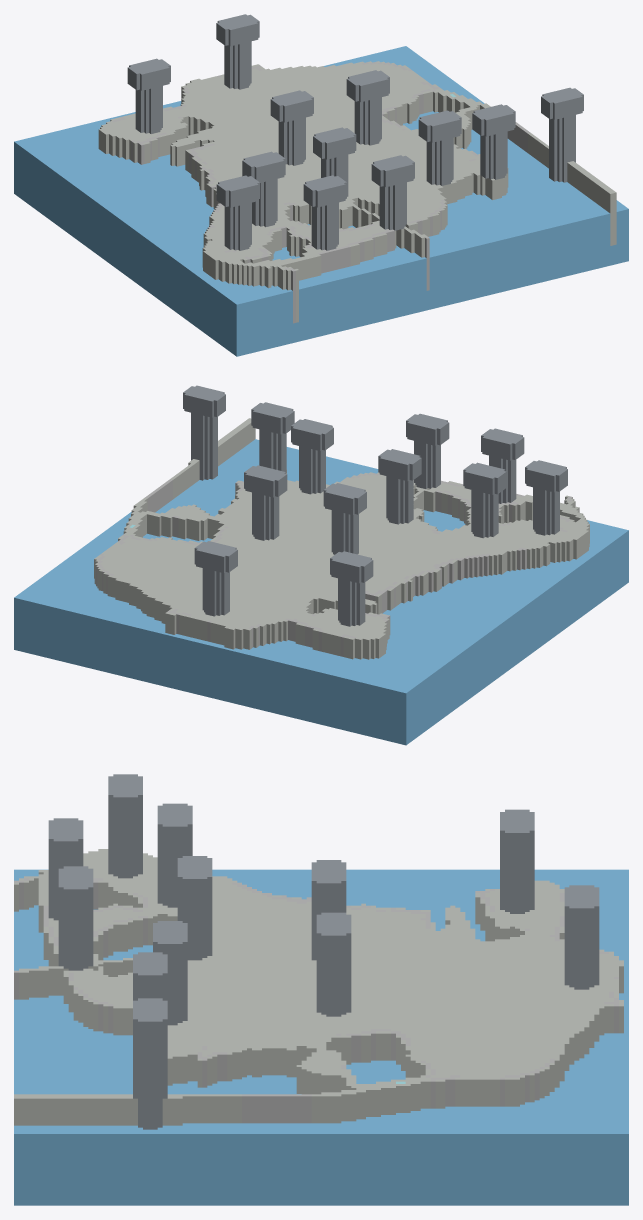
The model's file is 200611 macau mini map.obj.
3 views of the same model, one above another, from view 1: azimuth 30°, elevation 25°; view 2: azimuth 150°, elevation 25°; view 3: azimuth 270°, elevation 25° (orthographic). The views are drawn at different scales.
Bounding box in the file's own units: 12.6 × 4.1 × 12.4.
Materials: 1 (1 with a texture image).
